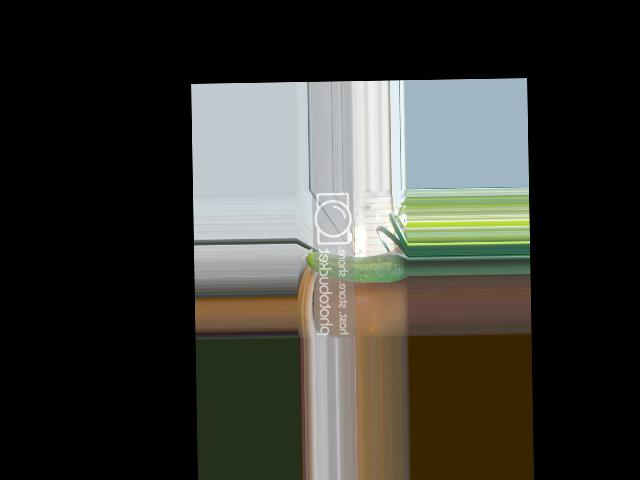cucumber: (301, 249, 407, 283)
